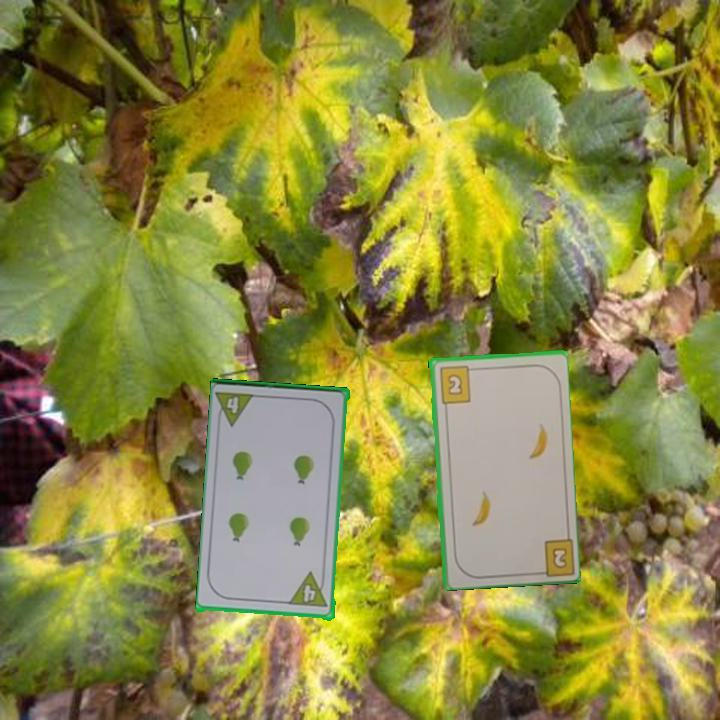2b: (531, 533, 575, 577), (436, 362, 478, 406)
4p: (286, 570, 320, 606), (223, 394, 242, 417)
